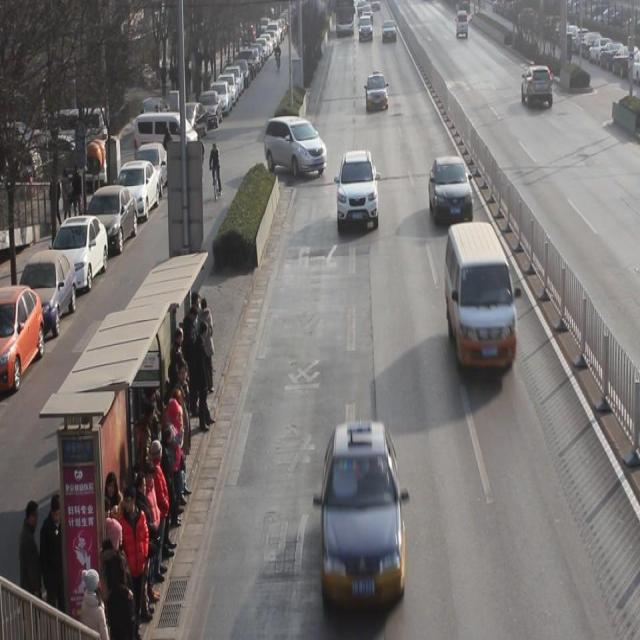car: (323, 420, 406, 599), (337, 150, 380, 233), (430, 155, 475, 229), (521, 64, 555, 110), (365, 73, 390, 113)
truck: (446, 223, 518, 377)
